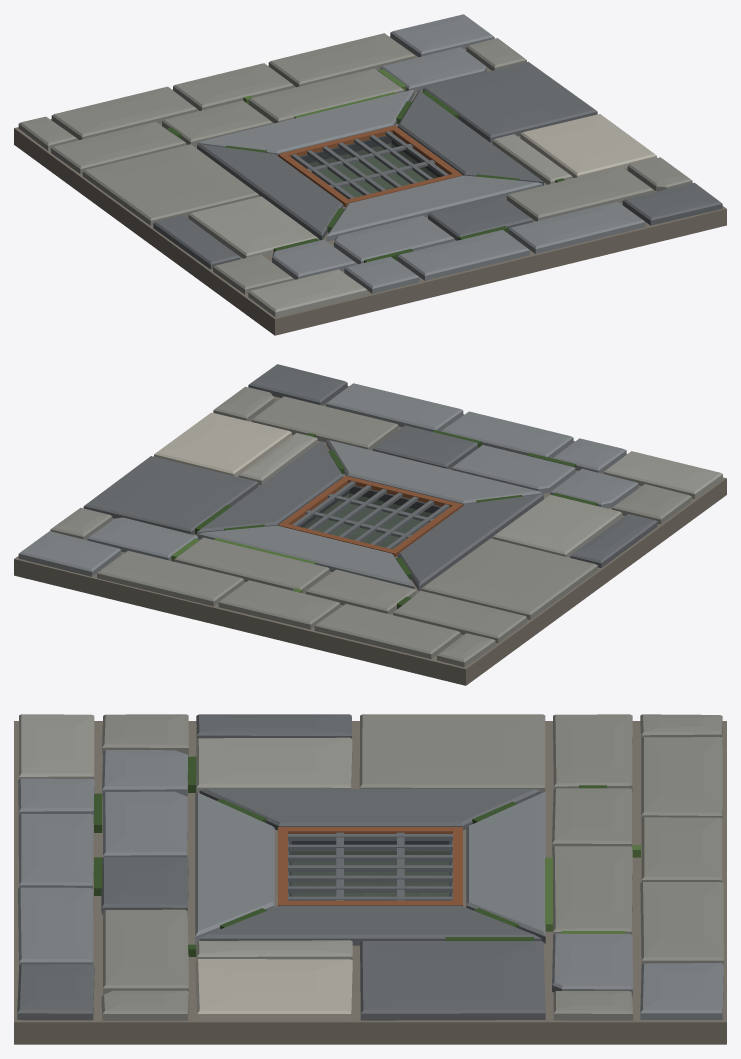
The model's file is SM_LPD_Floor_PavingDrain_01.fbx.
3 views of the same model, one above another, from view 1: azimuth 30°, elevation 25°; view 2: azimuth 150°, elevation 25°; view 3: azimuth 270°, elevation 25° (orthographic). The views are drawn at different scales.
Visible parts, largest first — view 1: SM_LPD_Floor_PavingDrain_01; view 2: SM_LPD_Floor_PavingDrain_01; view 3: SM_LPD_Floor_PavingDrain_01.
Boxes of the visible parts, bbox=[...] form: SM_LPD_Floor_PavingDrain_01: bbox=[14, 14, 726, 335]; SM_LPD_Floor_PavingDrain_01: bbox=[14, 364, 726, 685]; SM_LPD_Floor_PavingDrain_01: bbox=[14, 714, 726, 1044].
Bounding box in the file's own units: 4 × 0.2 × 4.
